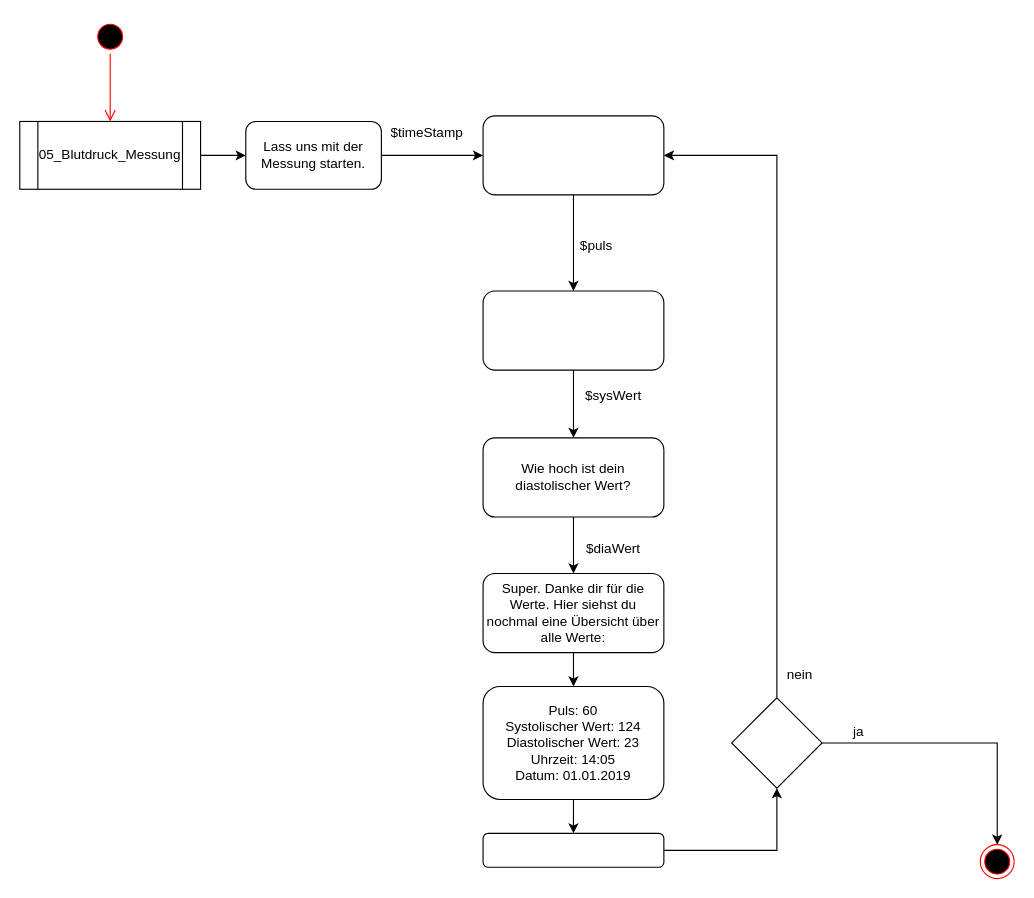
Some shapes in this 1034 by 898 pixel diagram are drawn without their labels. The centre of each missing label's shape, as x and y in pixels:
"Sind die Werte korrekt ?" belongs at point 573,849.
"Wie hoch ist dein Puls ?" belongs at point 573,155.
"Wie hoch ist dein systolischer Wert?" belongs at point 573,330.
